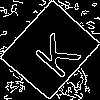K: (25, 25, 83, 80)
